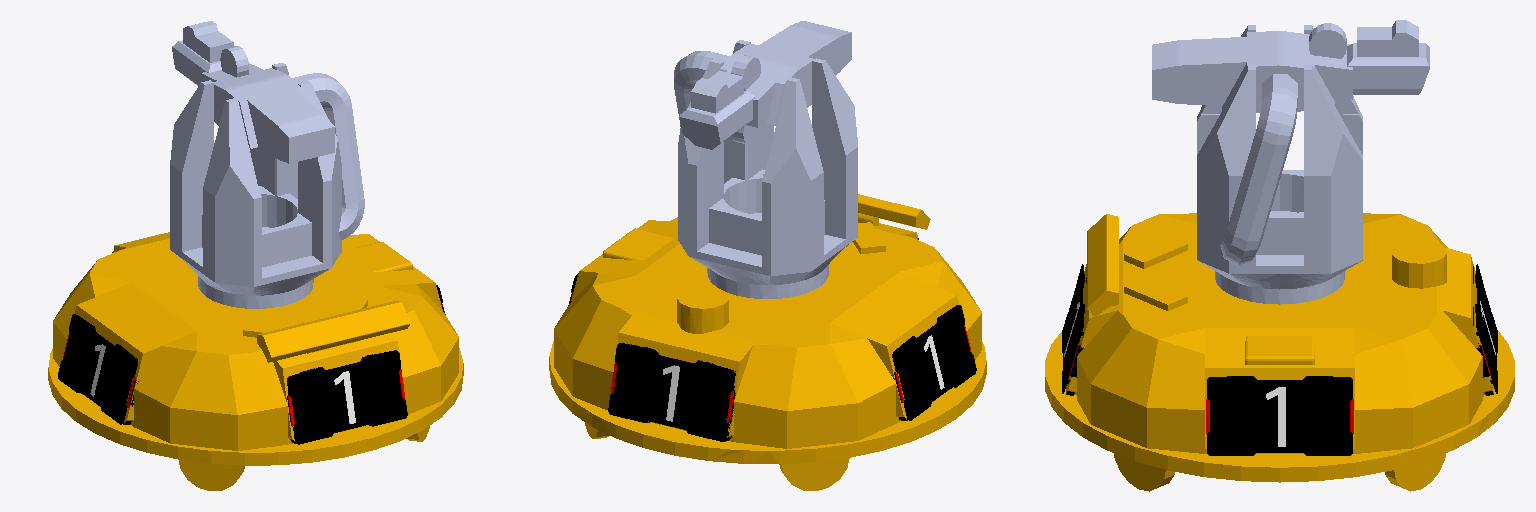
The robot description file, URDF, robot "hero":
<?xml version="1.0" encoding="utf-8"?>
<!-- This URDF was automatically created by SolidWorks to URDF Exporter! Originally created by [author] ([email redacted]) 
     Commit Version: 1.6.0-4-g7f85cfe  Build Version: 1.6.7995.38578
     For more information, please see http://wiki.ros.org/sw_urdf_exporter -->
<robot
  name="hero">
  <link
    name="base_link">
    <inertial>
      <origin
        xyz="0.00022371 -0.0010023 0.13309"
        rpy="0 0 0" />
      <mass
        value="67.399" />
      <inertia
        ixx="2.168"
        ixy="-1.3646E-05"
        ixz="-0.0014004"
        iyy="2.1185"
        iyz="0.0077433"
        izz="3.8624" />
    </inertial>
    <visual>
      <origin
        xyz="0 0 0"
        rpy="0 0 0" />
      <geometry>
        <mesh
          filename="package://hero/meshes/base_link.STL" />
      </geometry>
      <material
        name="base_link">
        <color
          rgba="0.984 0.737 0.020 1" />
      </material>
    </visual>
    <collision>
      <origin
        xyz="0 0 0"
        rpy="0 0 0" />
      <geometry>
        <mesh
          filename="package://hero/meshes/base_link.STL" />
      </geometry>
    </collision>
  </link>
  <link
    name="mount_link">
    <inertial>
      <origin
        xyz="-0.012913 0.14322 -0.0023258"
        rpy="0 0 0" />
      <mass
        value="9.6692" />
      <inertia
        ixx="0.14095"
        ixy="0.013309"
        ixz="-0.0031604"
        iyy="0.11751"
        iyz="0.0009584"
        izz="0.16804" />
    </inertial>
    <visual>
      <origin
        xyz="0 0 0"
        rpy="0 0 0" />
      <geometry>
        <mesh
          filename="package://hero/meshes/mount_link.STL" />
      </geometry>
      <material
        name="mount_link">
        <color
          rgba="0.79216 0.81961 0.93333 1" />
      </material>
    </visual>
    <collision>
      <origin
        xyz="0 0 0"
        rpy="0 0 0" />
      <geometry>
        <mesh
          filename="package://hero/meshes/mount_link.STL" />
      </geometry>
    </collision>
  </link>
  <joint
    name="mount_joint"
    type="continuous">
    <origin
      xyz="0 0 0.2341"
      rpy="1.5708 0 -3.1416" />
    <parent
      link="base_link" />
    <child
      link="mount_link" />
    <axis
      xyz="0 1 0" />
  </joint>
  <link
    name="turret_link">
    <inertial>
      <origin
        xyz="7.1618E-08 0.0031106 0.011239"
        rpy="0 0 0" />
      <mass
        value="3.2413" />
      <inertia
        ixx="0.042655"
        ixy="1.6627E-10"
        ixz="1.7711E-08"
        iyy="0.043453"
        iyz="-0.0018182"
        izz="0.0049322" />
    </inertial>
    <visual>
      <origin
        xyz="0 0 0"
        rpy="0 0 0" />
      <geometry>
        <mesh
          filename="package://hero/meshes/turret_link.STL" />
      </geometry>
      <material
        name="turret_link">
        <color
          rgba="0.79216 0.81961 0.93333 1" />
      </material>
    </visual>
    <collision>
      <origin
        xyz="0 0 0"
        rpy="0 0 0" />
      <geometry>
        <mesh
          filename="package://hero/meshes/turret_link.STL" />
      </geometry>
    </collision>
  </link>
  <joint
    name="turret_joint"
    type="continuous">
    <origin
      xyz="0 0.354 0"
      rpy="0 0 0" />
    <parent
      link="mount_link" />
    <child
      link="turret_link" />
    <axis
      xyz="-1 0 0" />
  </joint>
  <link
    name="plates_link">
    <inertial>
      <origin
        xyz="0 0 0"
        rpy="0 0 0" />
      <mass
        value="0" />
      <inertia
        ixx="0"
        ixy="0"
        ixz="0"
        iyy="0"
        iyz="0"
        izz="0" />
    </inertial>
    <visual>
      <origin
        xyz="0 0 0"
        rpy="0 0 0" />
      <geometry>
        <mesh
          filename="package://hero/meshes/plates_link.STL" />
      </geometry>
      <material
        name="plates_link">
        <color
          rgba="0 0 0 1" />
      </material>
    </visual>
    <collision>
      <origin
        xyz="0 0 0"
        rpy="0 0 0" />
      <geometry>
        <mesh
          filename="package://hero/meshes/plates_link.STL" />
      </geometry>
    </collision>
  </link>
  <joint
    name="plates_joint"
    type="fixed">
    <origin
      xyz="0 0 0"
      rpy="0 0 0" />
    <parent
      link="base_link" />
    <child
      link="plates_link" />
    <axis
      xyz="0 0 0" />
  </joint>
  <link
    name="lightbars_link">
    <inertial>
      <origin
        xyz="-2.82E-14 2.1982E-14 0.14331"
        rpy="0 0 0" />
      <mass
        value="0.0051135" />
      <inertia
        ixx="1.1406E-06"
        ixy="-7.3389E-21"
        ixz="6.8259E-19"
        iyy="1.1406E-06"
        iyz="9.6694E-21"
        izz="9.472E-08" />
    </inertial>
    <visual>
      <origin
        xyz="0 0 0"
        rpy="0 0 0" />
      <geometry>
        <mesh
          filename="package://hero/meshes/lightbars_link.STL" />
      </geometry>
      <material
        name="lightbars_link">
        <color
          rgba="1 0 0 1" />
      </material>
    </visual>
    <collision>
      <origin
        xyz="0 0 0"
        rpy="0 0 0" />
      <geometry>
        <mesh
          filename="package://hero/meshes/lightbars_link.STL" />
      </geometry>
    </collision>
  </link>
  <joint
    name="lightbars_joint"
    type="fixed">
    <origin
      xyz="0 0 0"
      rpy="0 0 0" />
    <parent
      link="plates_link" />
    <child
      link="lightbars_link" />
    <axis
      xyz="0 0 0" />
  </joint>
  <link
    name="numbers_link">
    <inertial>
      <origin
        xyz="-9.4036E-14 -8.8818E-16 0.14823"
        rpy="0 0 0" />
      <mass
        value="0.0005916" />
      <inertia
        ixx="4.8435E-07"
        ixy="-4.8266E-22"
        ixz="2.5431E-19"
        iyy="4.8435E-07"
        iyz="6.9748E-21"
        izz="6.0113E-08" />
    </inertial>
    <visual>
      <origin
        xyz="0 0 0"
        rpy="0 0 0" />
      <geometry>
        <mesh
          filename="package://hero/meshes/numbers_link.STL" />
      </geometry>
      <material
        name="numbers_link">
        <color
          rgba="1 1 1 1" />
      </material>
    </visual>
    <collision>
      <origin
        xyz="0 0 0"
        rpy="0 0 0" />
      <geometry>
        <mesh
          filename="package://hero/meshes/numbers_link.STL" />
      </geometry>
    </collision>
  </link>
  <joint
    name="numbers_joint"
    type="fixed">
    <origin
      xyz="0 0 0"
      rpy="0 0 0" />
    <parent
      link="plates_link" />
    <child
      link="numbers_link" />
    <axis
      xyz="0 0 0" />
  </joint>
</robot>

--- Facts derived from the render (not from the file) ---
3 views of the same robot in one strip: view 1: azimuth 30°, elevation 25°; view 2: azimuth 150°, elevation 25°; view 3: azimuth 270°, elevation 25° (orthographic).
Model hero with 6 links and 5 joints (2 continuous, 3 fixed), rooted at base_link, posed every joint at zero.
Visible links, largest first — view 1: base_link, mount_link, plates_link, turret_link, numbers_link; view 2: base_link, mount_link, plates_link, turret_link, numbers_link; view 3: base_link, mount_link, turret_link, plates_link, numbers_link.
Boxes of the visible links, x1,y1,x2,y2 form: base_link: [48, 232, 463, 490]; mount_link: [170, 63, 364, 308]; plates_link: [58, 252, 444, 444]; turret_link: [172, 21, 334, 163]; numbers_link: [90, 344, 355, 423]; base_link: [549, 194, 986, 490]; mount_link: [674, 40, 857, 298]; plates_link: [569, 238, 976, 441]; turret_link: [679, 21, 851, 149]; numbers_link: [663, 335, 944, 421]; base_link: [1045, 213, 1514, 491]; mount_link: [1197, 25, 1362, 304]; turret_link: [1152, 20, 1429, 115]; plates_link: [1062, 264, 1497, 455]; numbers_link: [1064, 301, 1495, 446].
Size in the robot's own frame: 0.738 by 0.7355 by 0.6979 metres.
6 mesh visuals loaded from 6 distinct referenced files (6 binary STL).